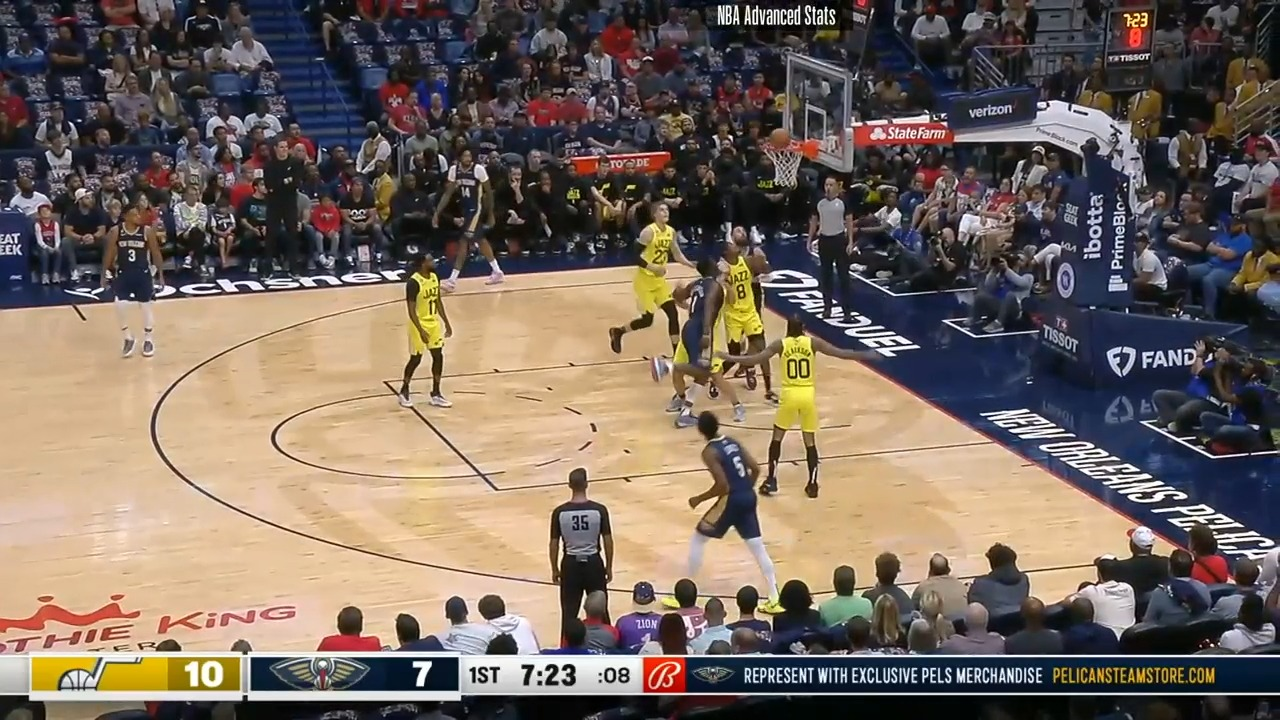net: (761, 136, 821, 191)
player: (720, 311, 886, 497), (677, 408, 781, 597), (615, 202, 698, 358), (667, 255, 732, 427), (707, 236, 771, 406), (107, 202, 167, 360), (399, 254, 458, 414), (438, 149, 502, 296), (724, 227, 768, 308)
referee: (548, 467, 619, 631), (809, 177, 862, 323)
